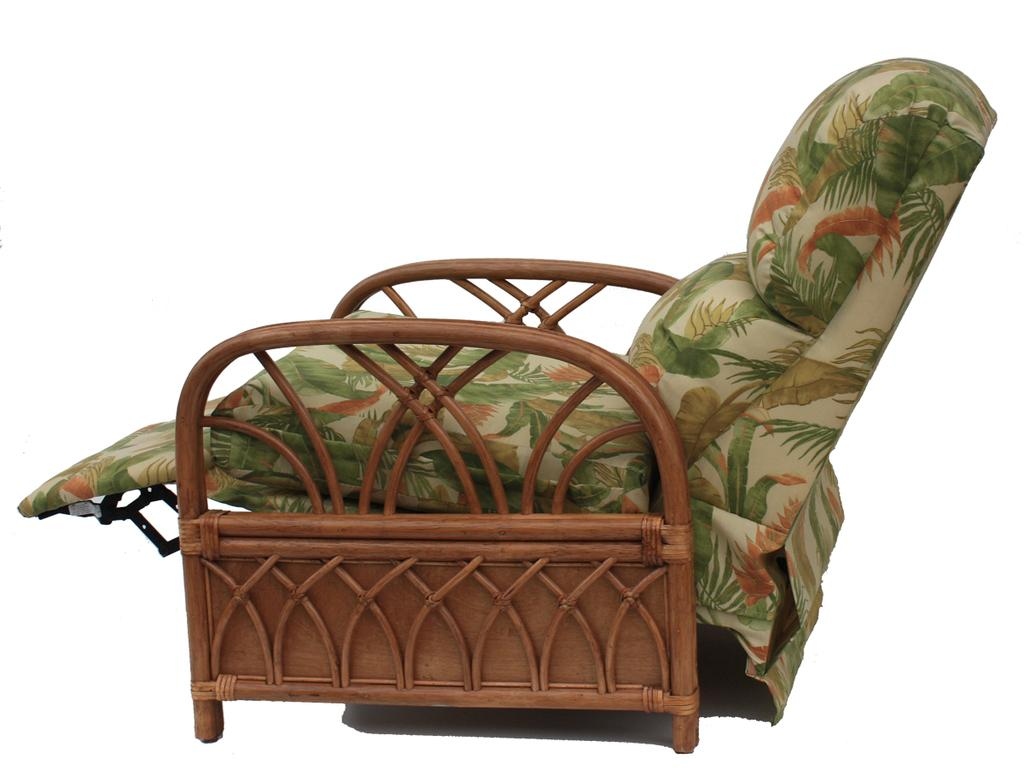Chair: (17, 54, 1002, 758)
